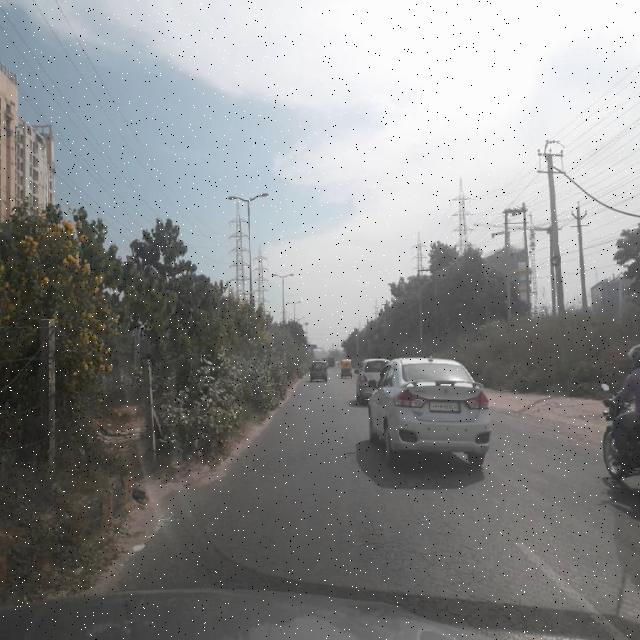D20: (147, 451, 606, 625)
